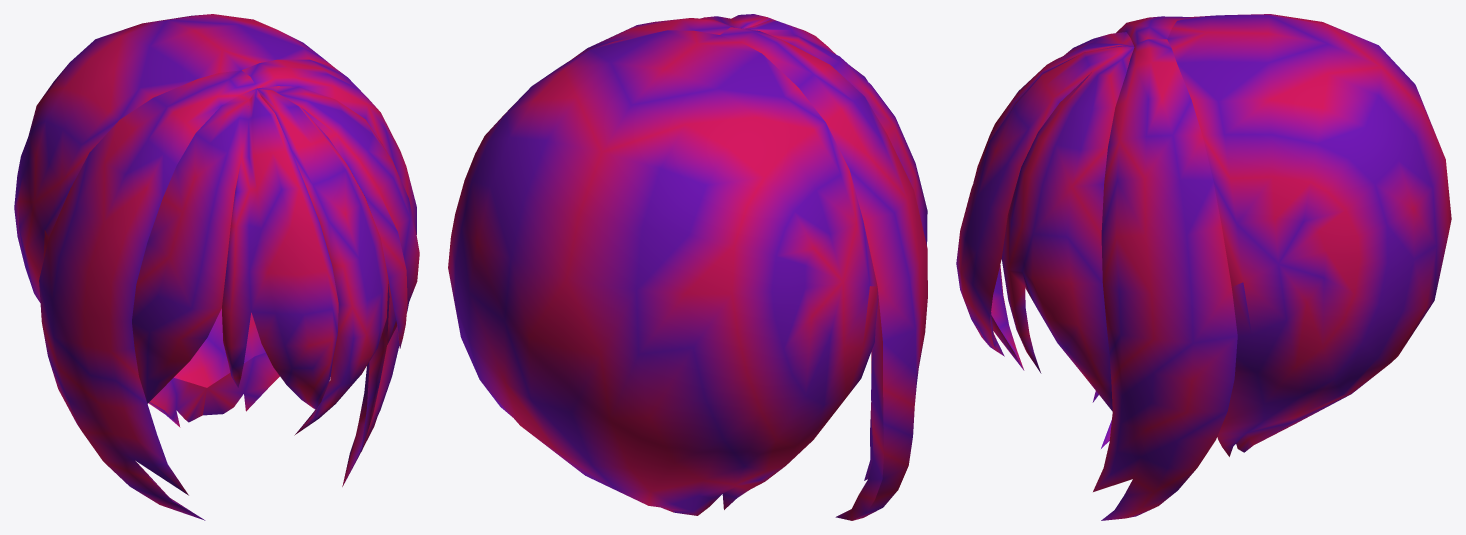
File: Hair.FBX
3 views of the same model, side by side, from view 1: azimuth 30°, elevation 25°; view 2: azimuth 150°, elevation 25°; view 3: azimuth 270°, elevation 25° (orthographic). The views are drawn at different scales.
Visible parts, largest first — view 1: Hair; view 2: Hair; view 3: Hair.
Boxes of the visible parts, box(x1,y1,x2,y2) form: Hair: box(14, 14, 419, 520); Hair: box(448, 14, 927, 520); Hair: box(956, 14, 1451, 520).
Size of the model in its own units: 405 by 460 by 457.
